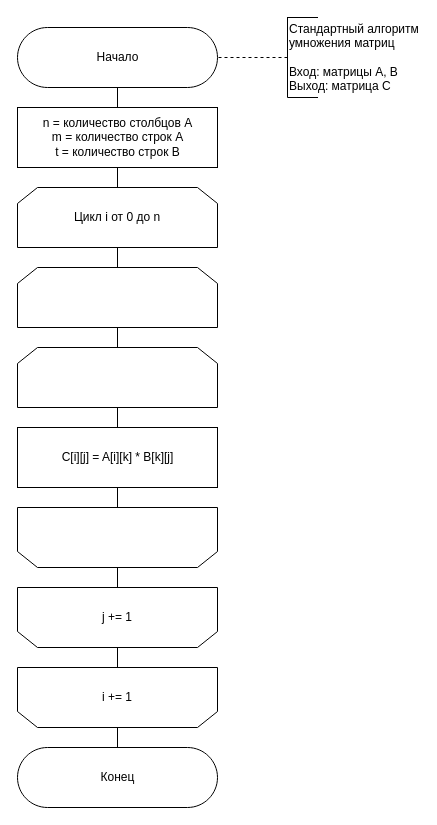
Image size: 437x825. Some labels were removed from this diagram. The shapes that lost their labels are listed below. From the top down, each one's box as (x1, y1, x2, y2) in pixels, then its label:
(16, 266, 218, 328): Цикл j от 0 до m
(16, 346, 218, 408): Цикл k от 0 до t
(16, 506, 218, 568): k += 1
